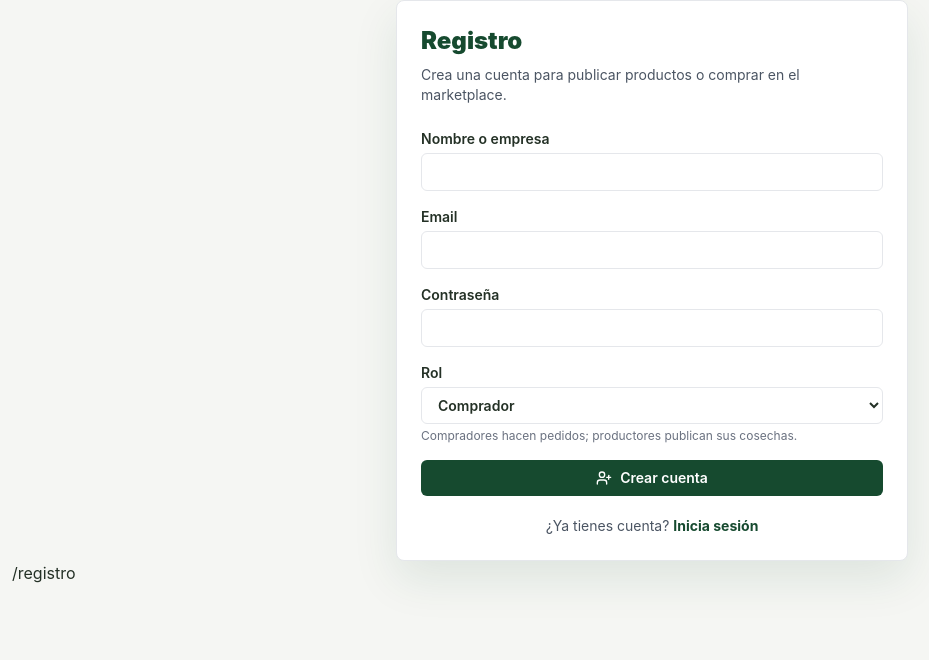
Test: Registro › muestra los errores del backend
Type "Otra" into the field labelled "Nombre o empresa". click: (652,172)
box: [421,153,883,191]
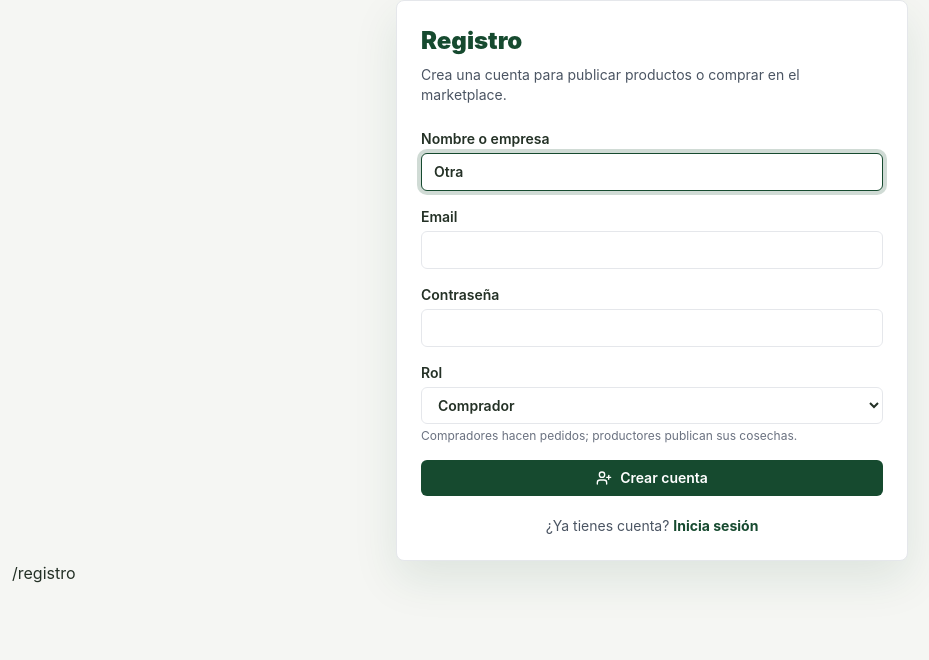
Type "repetido@example.com" into the field labelled "Email". click: (652,250)
box: [421,231,883,269]
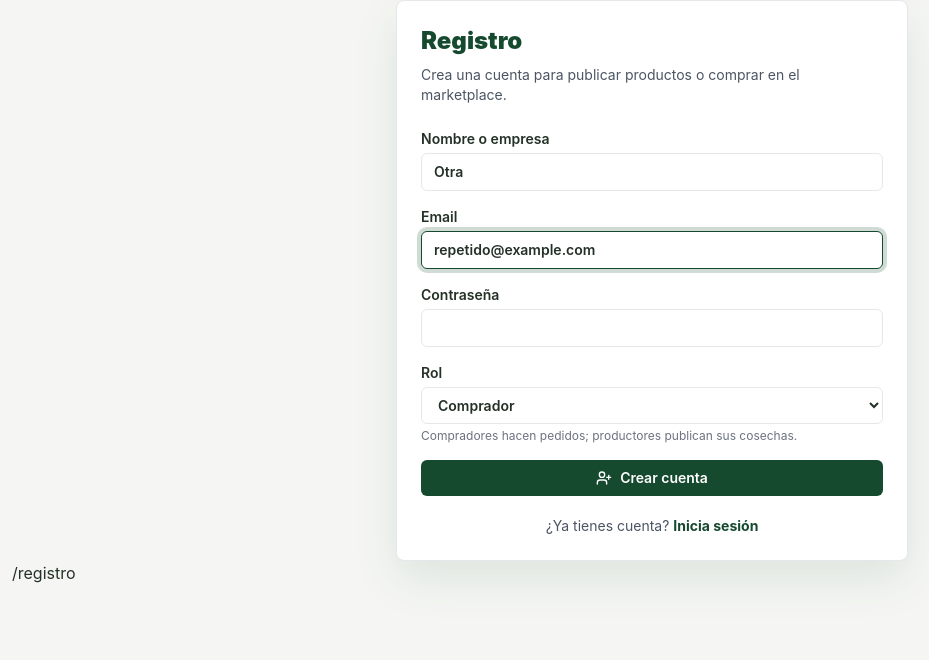
Type "secreta1" into the password field labelled "Contraseña". click: (652,328)
box: [421,309,883,347]
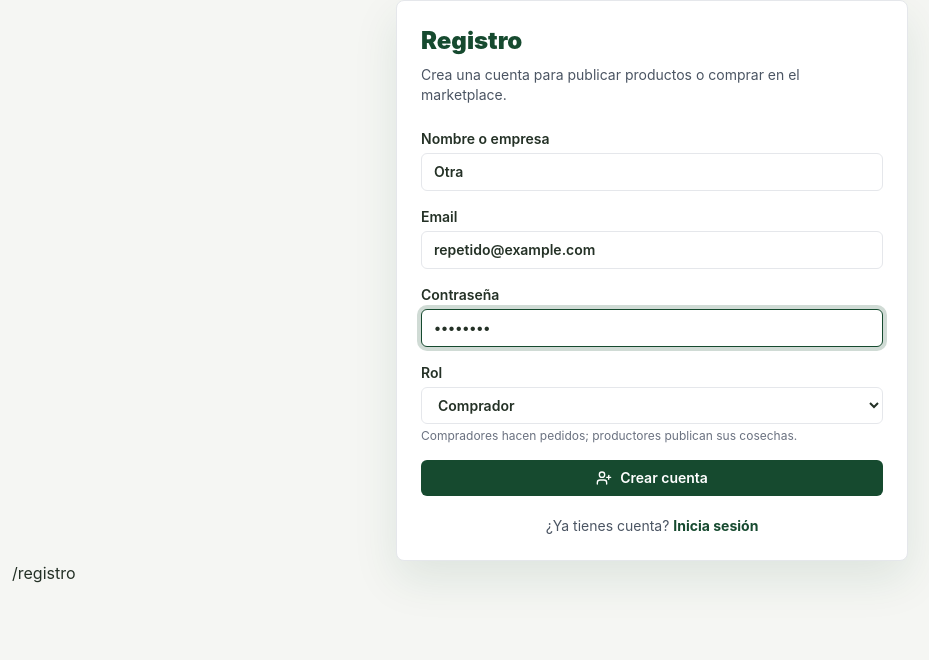
Click the button "Crear cuenta". click: (652,478)
box: [421,460,883,496]
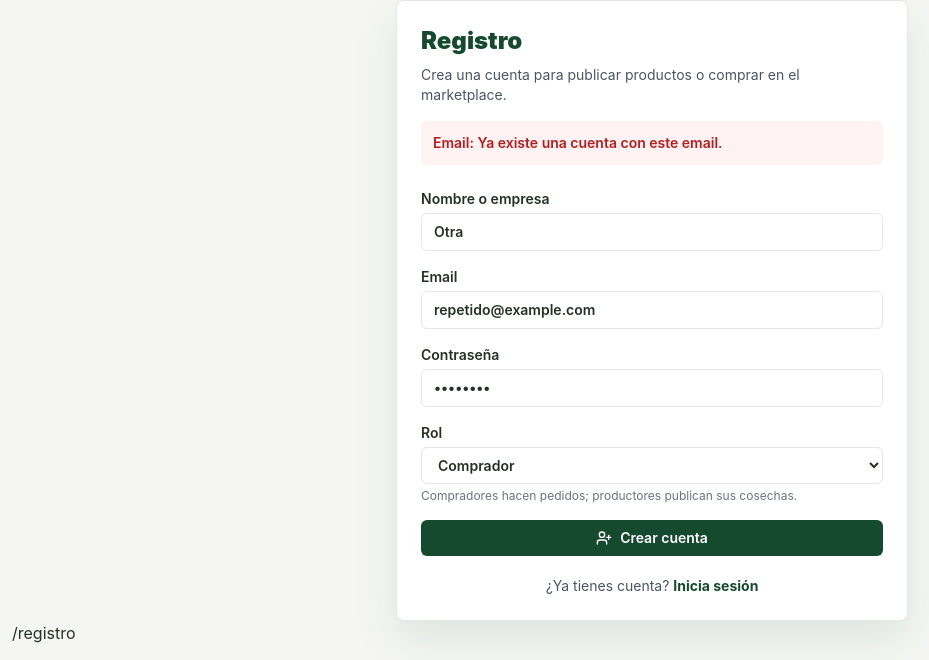
Expected: the text "Email: Ya existe una cuenta con este email." is shown, [421,121,883,165]
